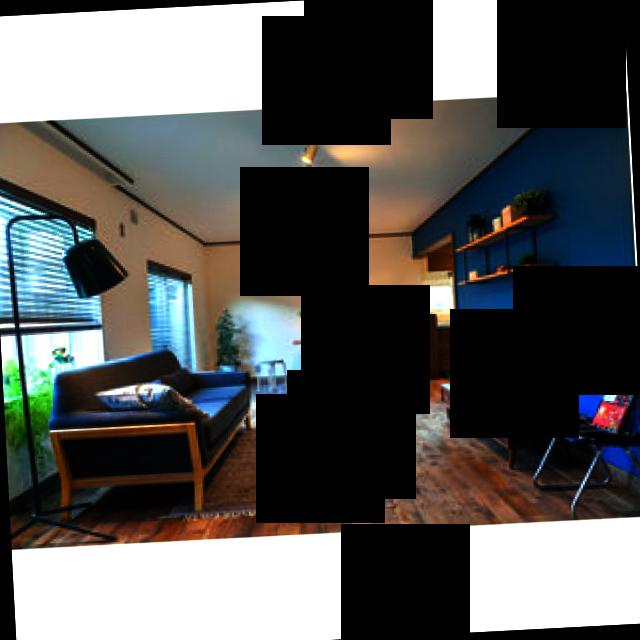vintage chair: (276, 382, 364, 476)
vintage desk: (434, 363, 589, 478)
